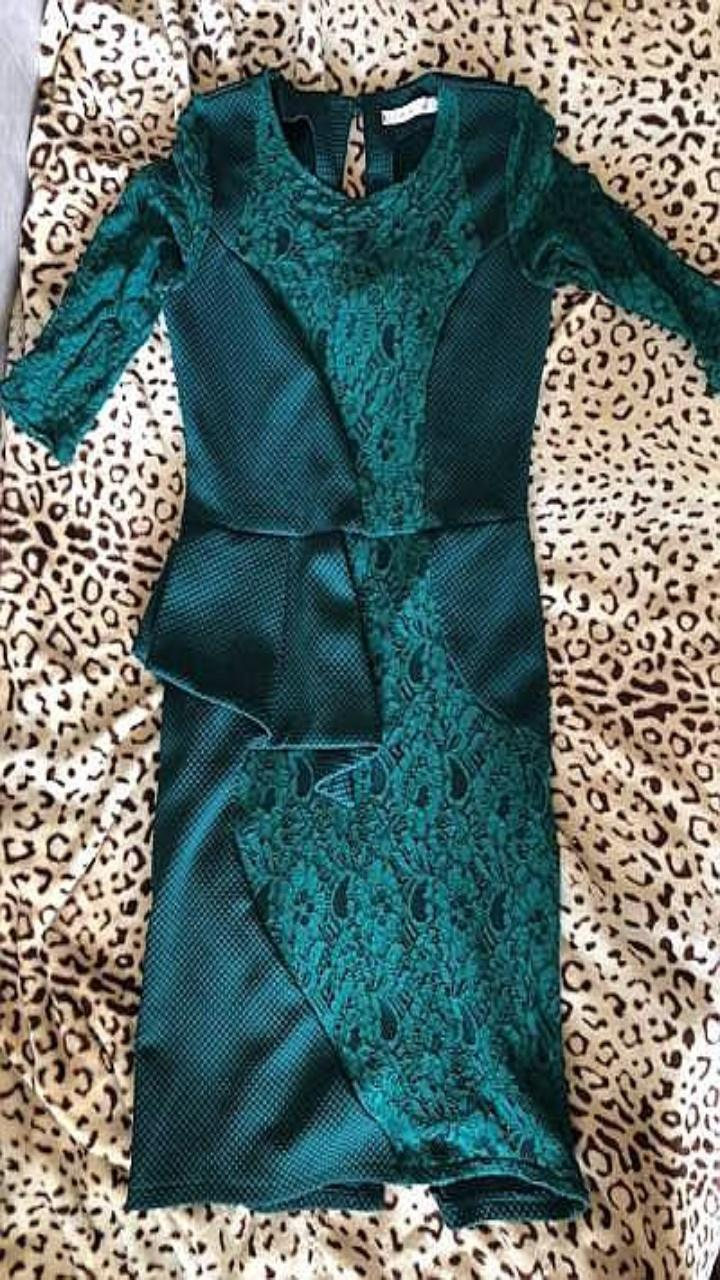T-Shirt: (0, 68, 719, 1226)
